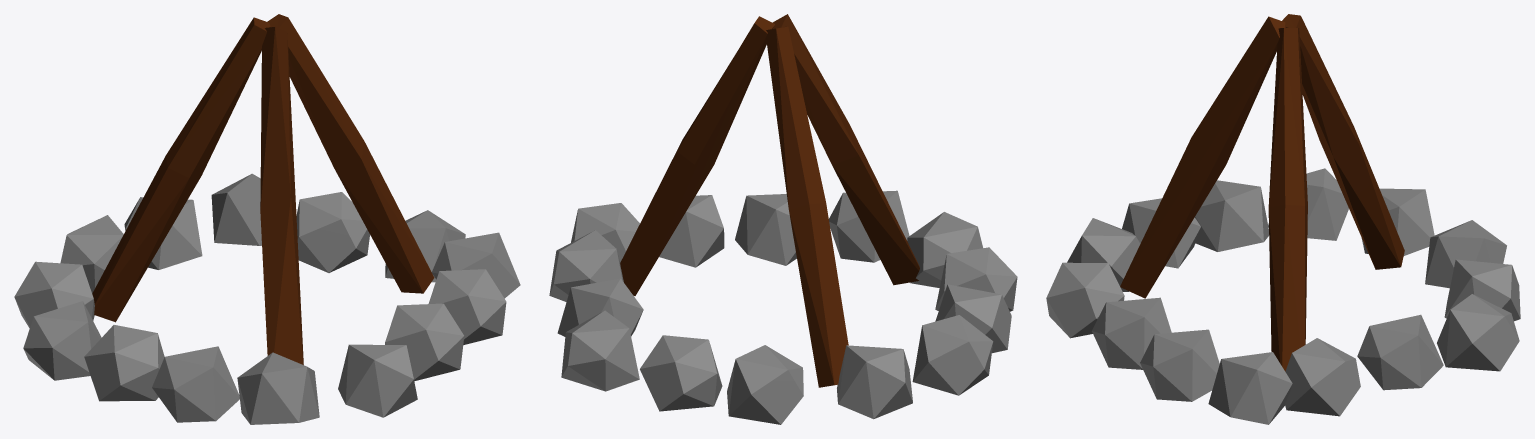
Rendered from kampvuur.fbx.
3 renders of one model, left to right at view 1: azimuth 30°, elevation 25°; view 2: azimuth 150°, elevation 25°; view 3: azimuth 270°, elevation 25°, orthographic. The views are drawn at different scales.
Parts seen in each view (by area): view 1: Cylinder.001_Cylinder.005, Cylinder.002_Cylinder.006, Cylinder_Cylinder.004, Icosphere.006_Icosphere.007, Icosphere.005_Icosphere.006, Icosphere.007_Icosphere.008, Icosphere.013_Icosphere.014, Icosphere.008_Icosphere.009, Icosphere.009_Icosphere.010, Icosphere.004_Icosphere.005, Icosphere.010_Icosphere.011, Icosphere.003_Icosphere.004 (+5 smaller); view 2: Cylinder.001_Cylinder.005, Cylinder_Cylinder.004, Cylinder.002_Cylinder.006, Icosphere.001_Icosphere.002, Icosphere.004_Icosphere.005, Icosphere.002_Icosphere.003, Icosphere_Icosphere.001, Icosphere.003_Icosphere.004, Icosphere.009_Icosphere.010, Icosphere.012_Icosphere.013, Icosphere.007_Icosphere.008, Icosphere.010_Icosphere.011 (+5 smaller); view 3: Cylinder_Cylinder.004, Cylinder.002_Cylinder.006, Cylinder.001_Cylinder.005, Icosphere_Icosphere.001, Icosphere.013_Icosphere.014, Icosphere.010_Icosphere.011, Icosphere.011_Icosphere.012, Icosphere.012_Icosphere.013, Icosphere.005_Icosphere.006, Icosphere.008_Icosphere.009, Icosphere.009_Icosphere.010, Icosphere.002_Icosphere.003 (+5 smaller).
Boxes of the visible parts, box(x1,y1,x2,y2) form: Cylinder.001_Cylinder.005: box(92, 17, 270, 322); Cylinder.002_Cylinder.006: box(260, 27, 303, 364); Cylinder_Cylinder.004: box(267, 14, 434, 293); Icosphere.006_Icosphere.007: box(152, 346, 239, 422); Icosphere.005_Icosphere.006: box(84, 325, 164, 401); Icosphere.007_Icosphere.008: box(237, 352, 319, 424); Icosphere.013_Icosphere.014: box(296, 192, 369, 272); Icosphere.008_Icosphere.009: box(338, 344, 417, 417); Icosphere.009_Icosphere.010: box(385, 303, 464, 381); Icosphere.004_Icosphere.005: box(23, 301, 101, 380); Icosphere.010_Icosphere.011: box(428, 269, 506, 344); Icosphere.003_Icosphere.004: box(14, 261, 94, 328); Cylinder.001_Cylinder.005: box(766, 26, 848, 387); Cylinder_Cylinder.004: box(620, 16, 774, 295); Cylinder.002_Cylinder.006: box(772, 14, 919, 285); Icosphere.001_Icosphere.002: box(640, 335, 722, 411); Icosphere.004_Icosphere.005: box(912, 315, 993, 395); Icosphere.002_Icosphere.003: box(727, 345, 803, 424); Icosphere_Icosphere.001: box(561, 310, 639, 391); Icosphere.003_Icosphere.004: box(837, 345, 912, 419); Icosphere.009_Icosphere.010: box(735, 194, 796, 265); Icosphere.012_Icosphere.013: box(549, 230, 623, 301); Icosphere.007_Icosphere.008: box(907, 212, 982, 287); Icosphere.010_Icosphere.011: box(659, 195, 724, 267); Cylinder_Cylinder.004: box(1268, 28, 1307, 371); Cylinder.002_Cylinder.006: box(1120, 16, 1285, 298); Cylinder.001_Cylinder.005: box(1282, 14, 1404, 269); Icosphere_Icosphere.001: box(1437, 294, 1519, 371); Icosphere.013_Icosphere.014: box(1357, 314, 1443, 390); Icosphere.010_Icosphere.011: box(1140, 329, 1219, 401); Icosphere.011_Icosphere.012: box(1208, 352, 1292, 424); Icosphere.012_Icosphere.013: box(1285, 338, 1360, 416); Icosphere.005_Icosphere.006: box(1195, 180, 1269, 251); Icosphere.008_Icosphere.009: box(1046, 262, 1124, 338); Icosphere.009_Icosphere.010: box(1092, 297, 1171, 369); Icosphere.002_Icosphere.003: box(1425, 220, 1506, 288).
Bounding box in the file's own units: 122 × 79.93 × 113.
